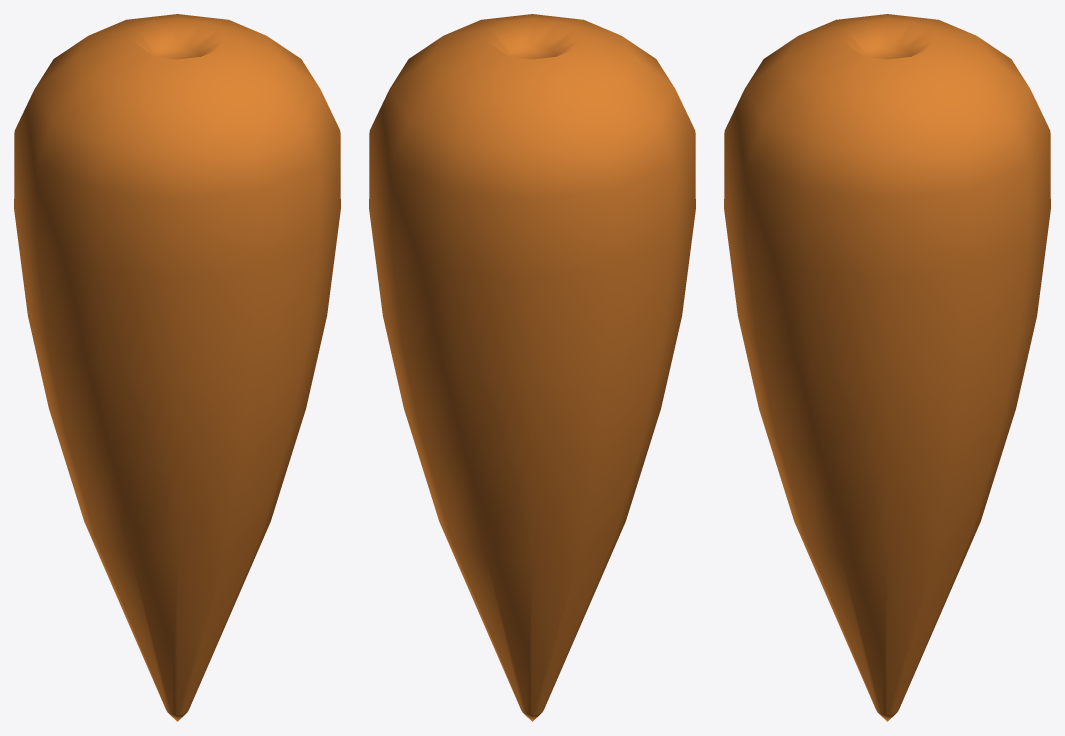
Rendered from carrot.fbx.
The picture shows the model from 3 angles, left to right: view 1: azimuth 30°, elevation 25°; view 2: azimuth 150°, elevation 25°; view 3: azimuth 270°, elevation 25°; orthographic projection.
Parts seen in each view (by area): view 1: pCylinder1; view 2: pCylinder1; view 3: pCylinder1.
Part boxes in pixels (box(x1,y1,x2,y2)): pCylinder1: box(14, 14, 340, 721); pCylinder1: box(369, 14, 695, 721); pCylinder1: box(724, 14, 1050, 721).
Bounding box in the file's own units: 2.45 × 5.64 × 2.45.
